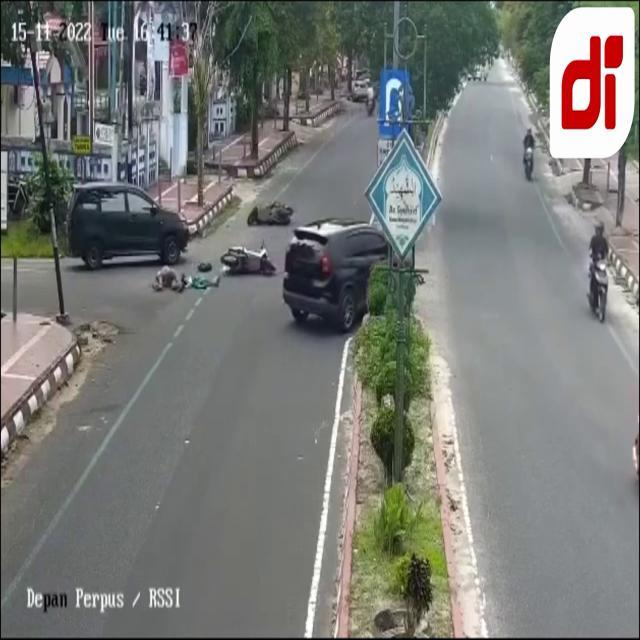multiple_accident: (47, 159, 198, 285), (216, 235, 293, 288), (242, 186, 296, 226)
normal: (272, 202, 419, 346), (569, 215, 637, 349), (506, 107, 547, 194)
